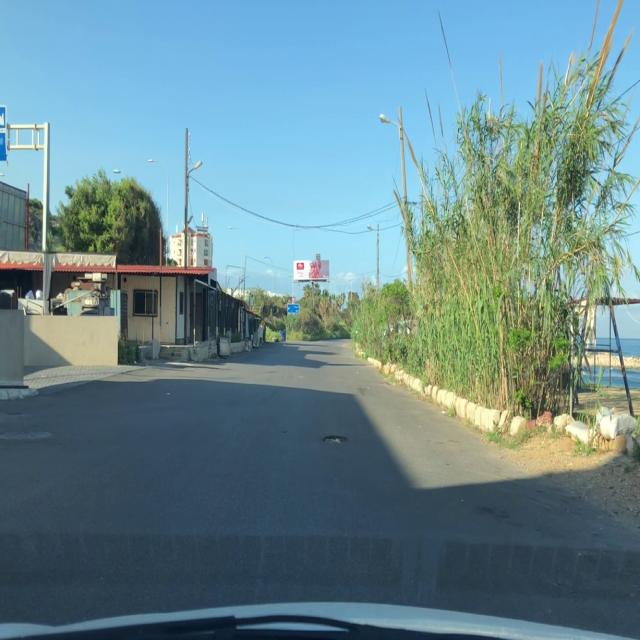Pothole: (322, 432, 349, 447)
